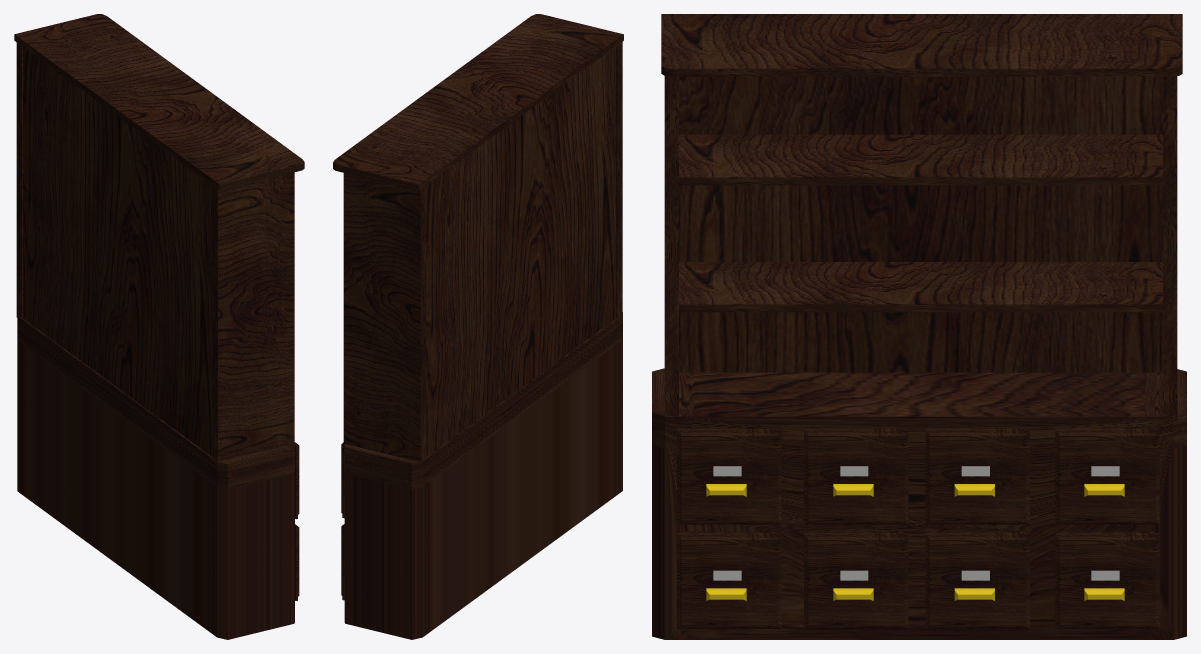
File: shelfBig.glb
The picture shows the model from 3 angles, left to right: view 1: azimuth 30°, elevation 25°; view 2: azimuth 150°, elevation 25°; view 3: azimuth 270°, elevation 25°; orthographic projection. The views are drawn at different scales.
Visible parts, largest first — view 1: SHELFMAIN.001; view 2: SHELFMAIN.001; view 3: SHELFMAIN.001, Cube.008, Cube.015, Cube.011, Cube.013, Cube.010, Cube.014, Cube.009, Cube.012.
Boxes of the visible parts, x1,y1,x2,y2 form: SHELFMAIN.001: (14, 14, 304, 639); SHELFMAIN.001: (333, 14, 623, 639); SHELFMAIN.001: (652, 14, 1186, 639); Cube.008: (677, 531, 781, 628); Cube.015: (1055, 531, 1159, 628); Cube.011: (804, 531, 908, 628); Cube.013: (925, 531, 1029, 628); Cube.010: (677, 428, 781, 524); Cube.014: (1055, 428, 1159, 524); Cube.009: (804, 428, 908, 524); Cube.012: (925, 428, 1029, 524).
Size of the model in its own units: 0.6048 by 2.77 by 2.32.
Materials: 3 (1 with a texture image).
